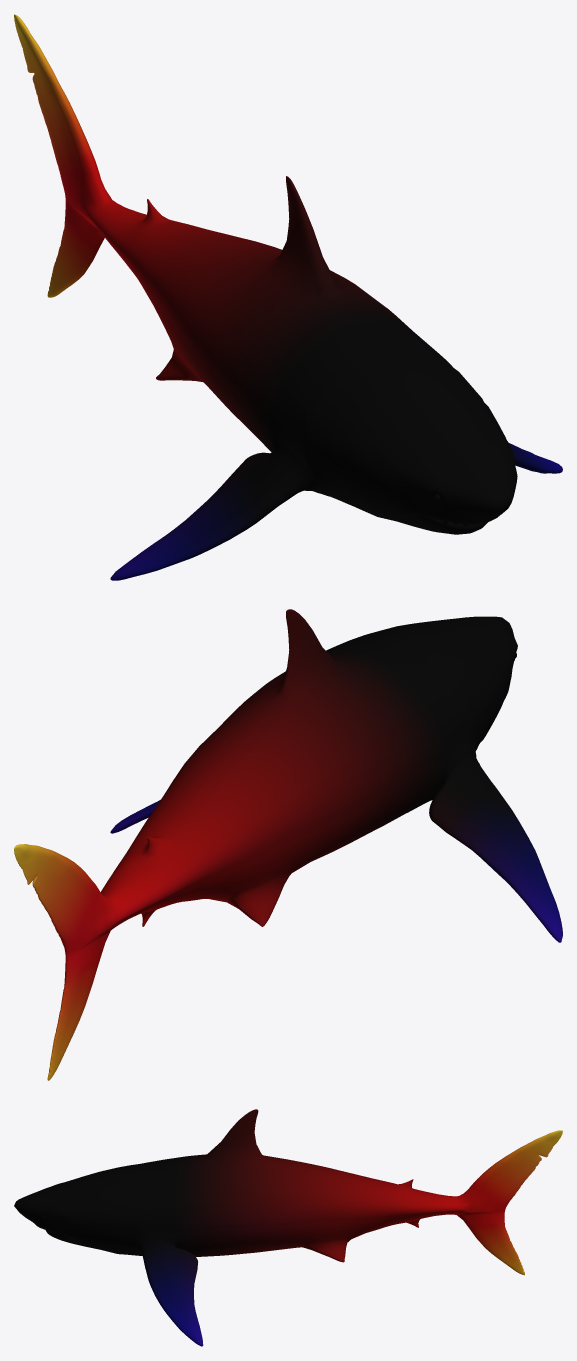
The picture shows the model from 3 angles, top to bottom: view 1: azimuth 30°, elevation 25°; view 2: azimuth 150°, elevation 25°; view 3: azimuth 270°, elevation 25°; orthographic projection. The views are drawn at different scales.
Visible parts, largest first — view 1: Megalodon (internal use only); view 2: Megalodon (internal use only); view 3: Megalodon (internal use only).
Boxes of the visible parts, bbox=[...] form: Megalodon (internal use only): bbox=[14, 14, 562, 580]; Megalodon (internal use only): bbox=[14, 609, 562, 1080]; Megalodon (internal use only): bbox=[14, 1109, 562, 1346].
Size of the model in its own units: 6.8 by 4.53 by 12.81.
